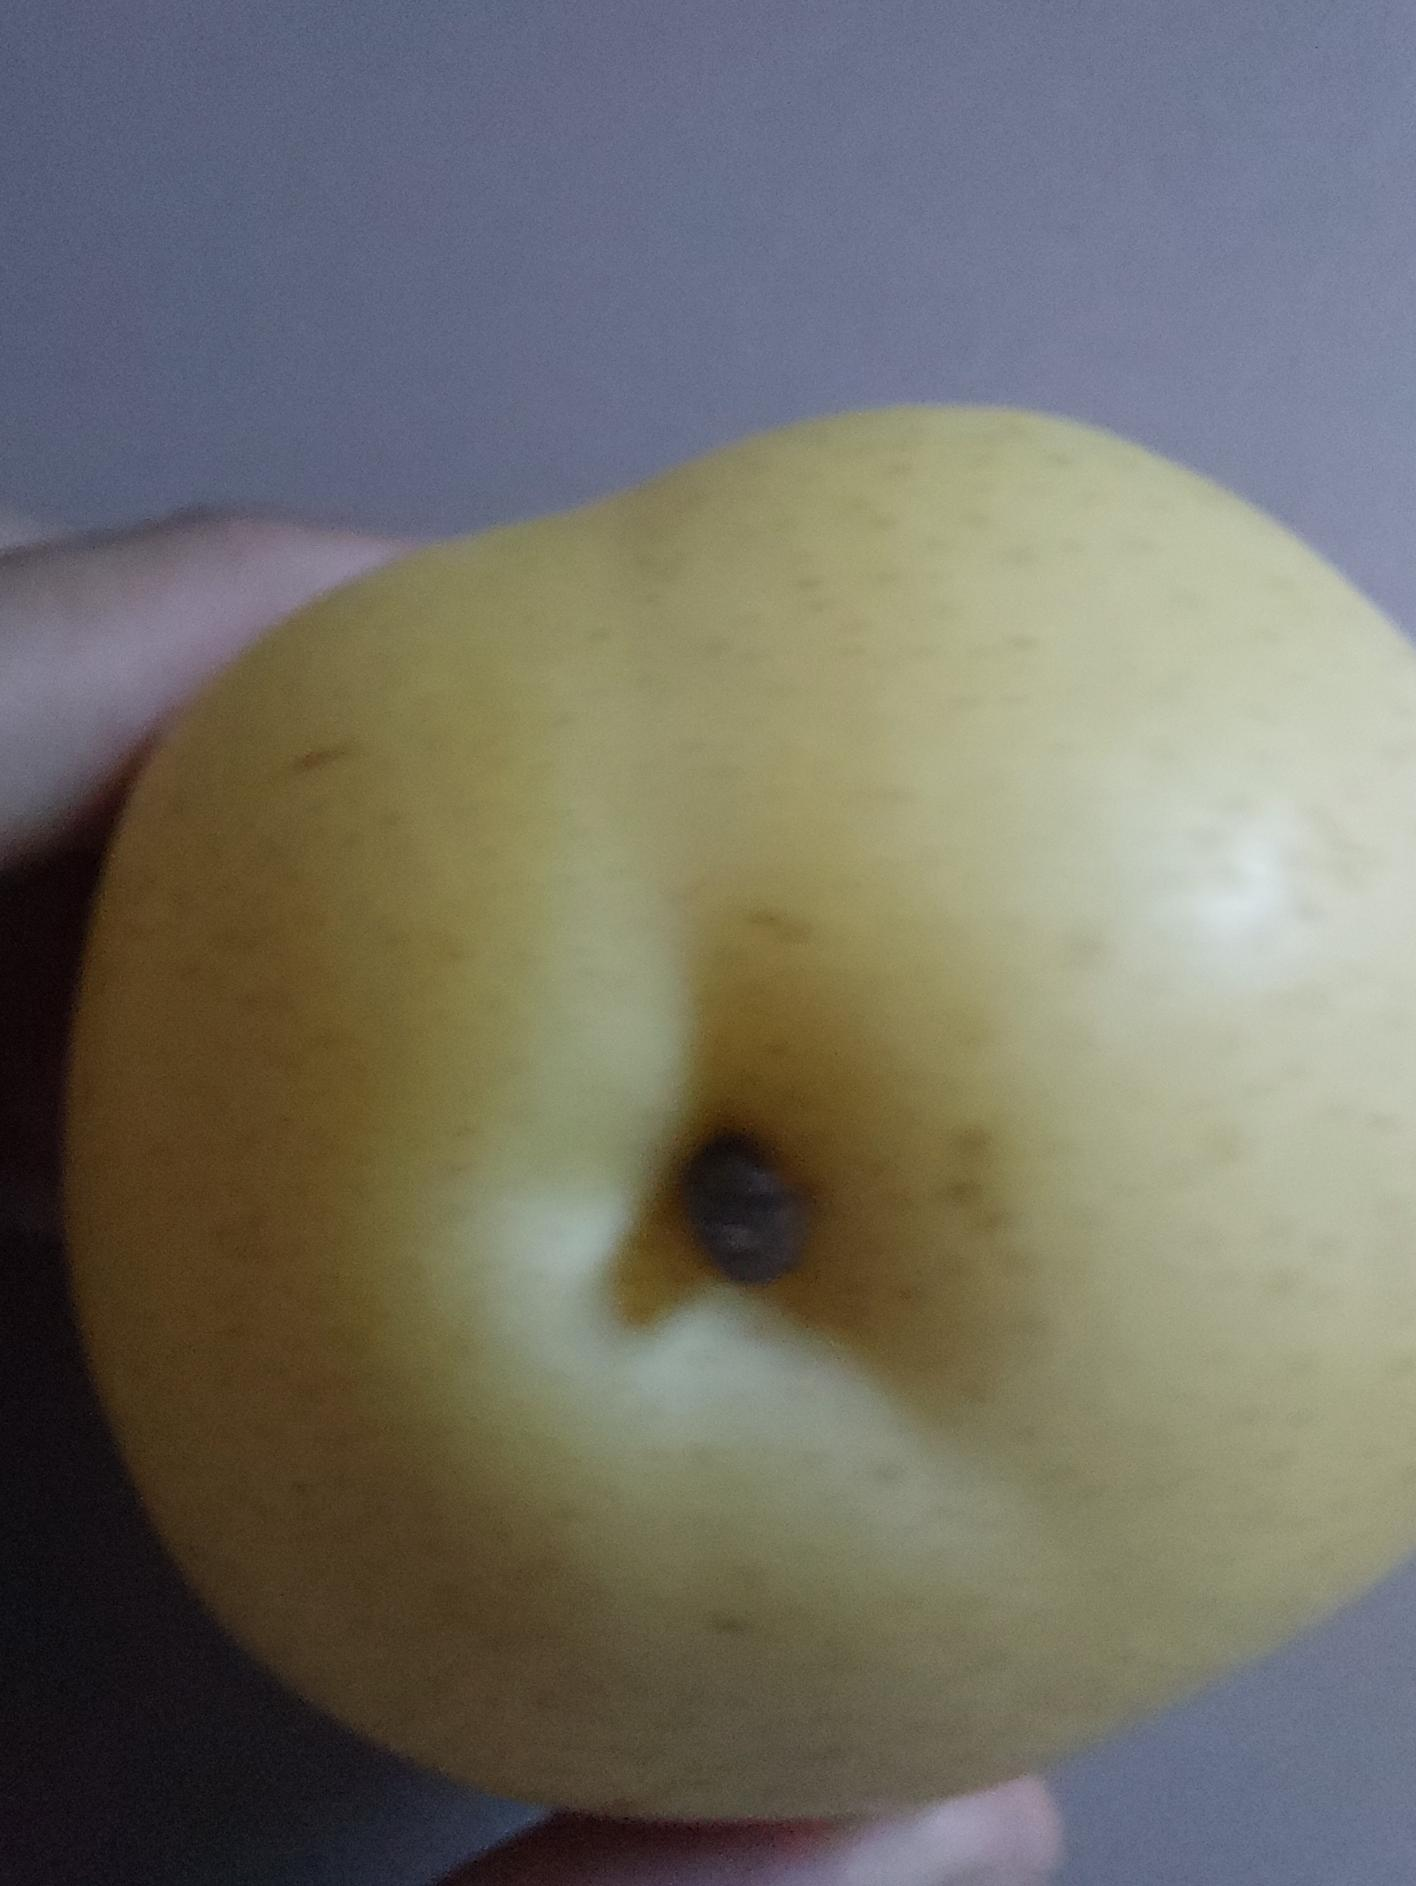Good Pear: (71, 396, 1416, 1829)
